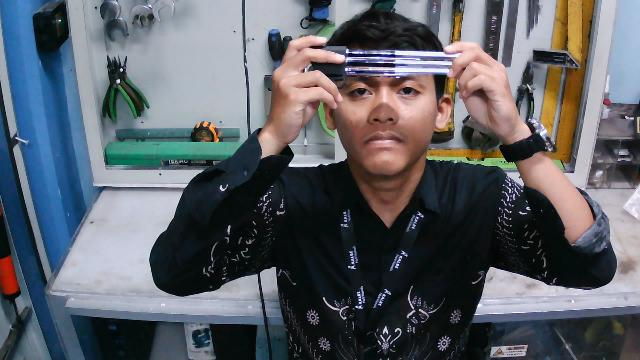kunci_l: (291, 35, 470, 86)
